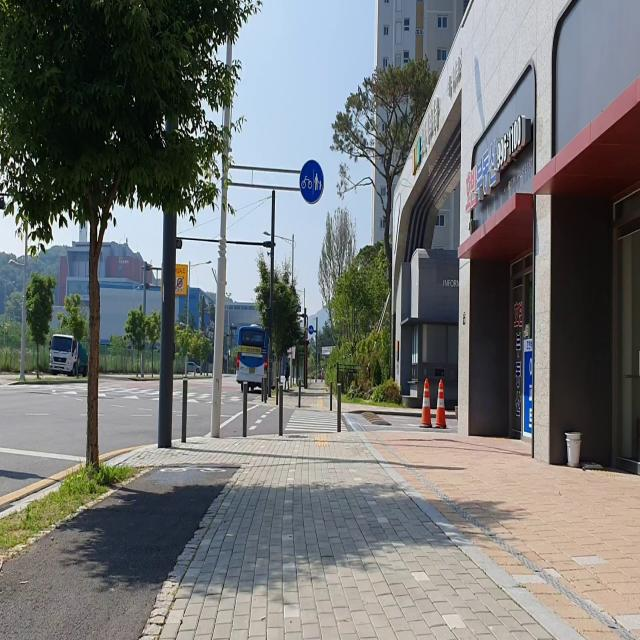횡단보도: (8, 381, 254, 405), (284, 409, 348, 433)
